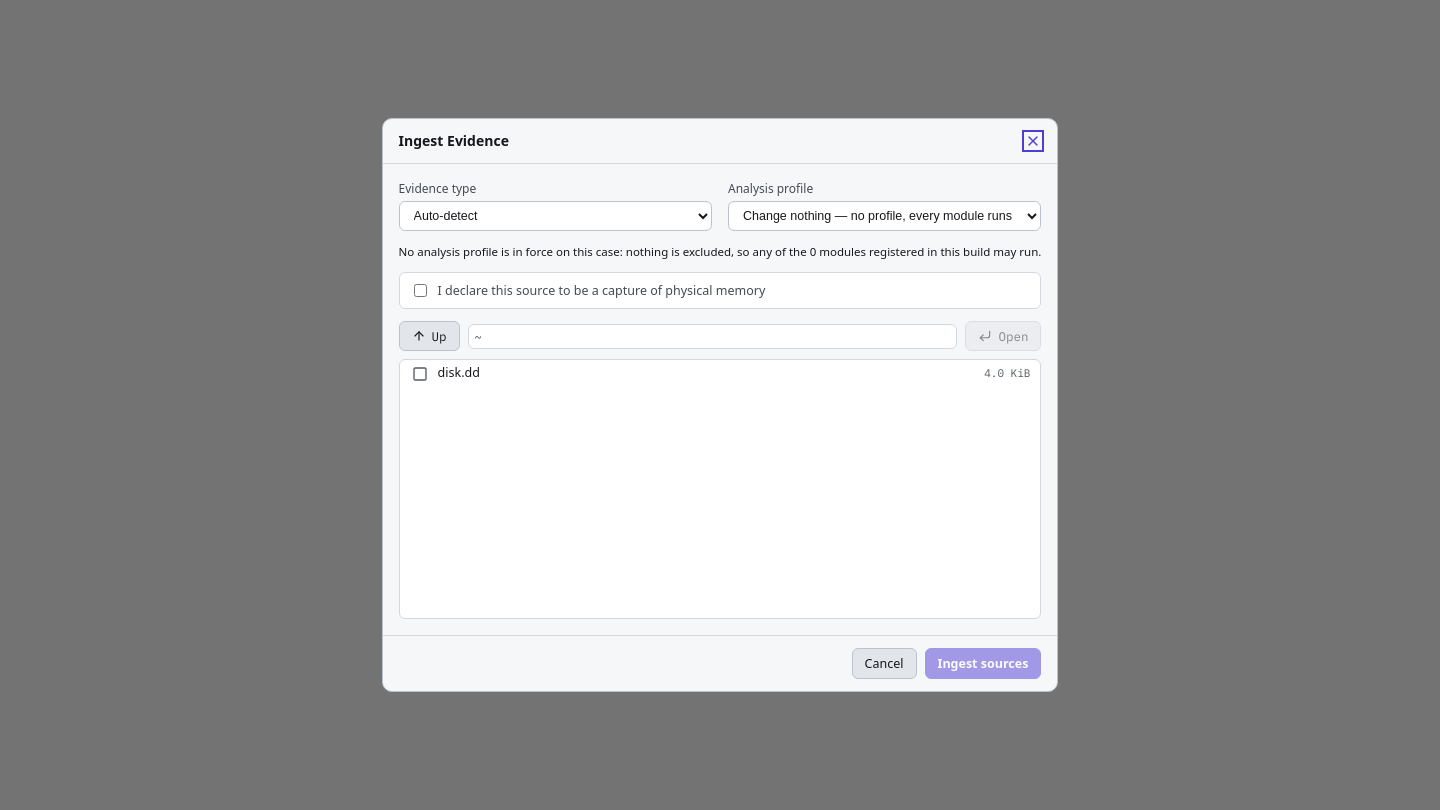
pasting a known evidence path › opens a pasted path from a control, not only from the Enter key
Replace the text in the field named "path" with "/evidence/2026/OP-KESTREL": (712, 336) top-left (468, 324), bottom-right (957, 349)
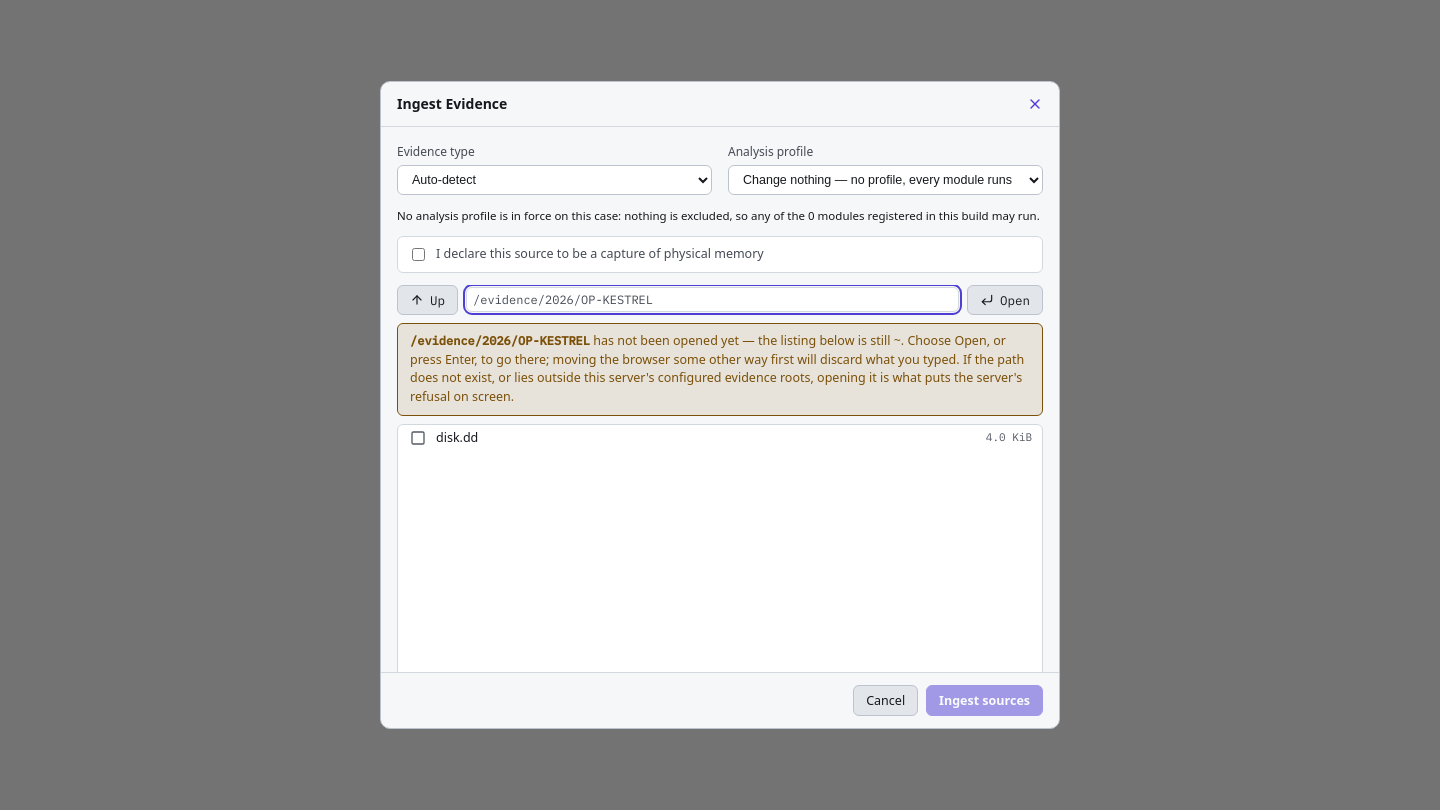
Click the button with aria-label "open this path": (1005, 300) top-left (967, 285), bottom-right (1043, 315)
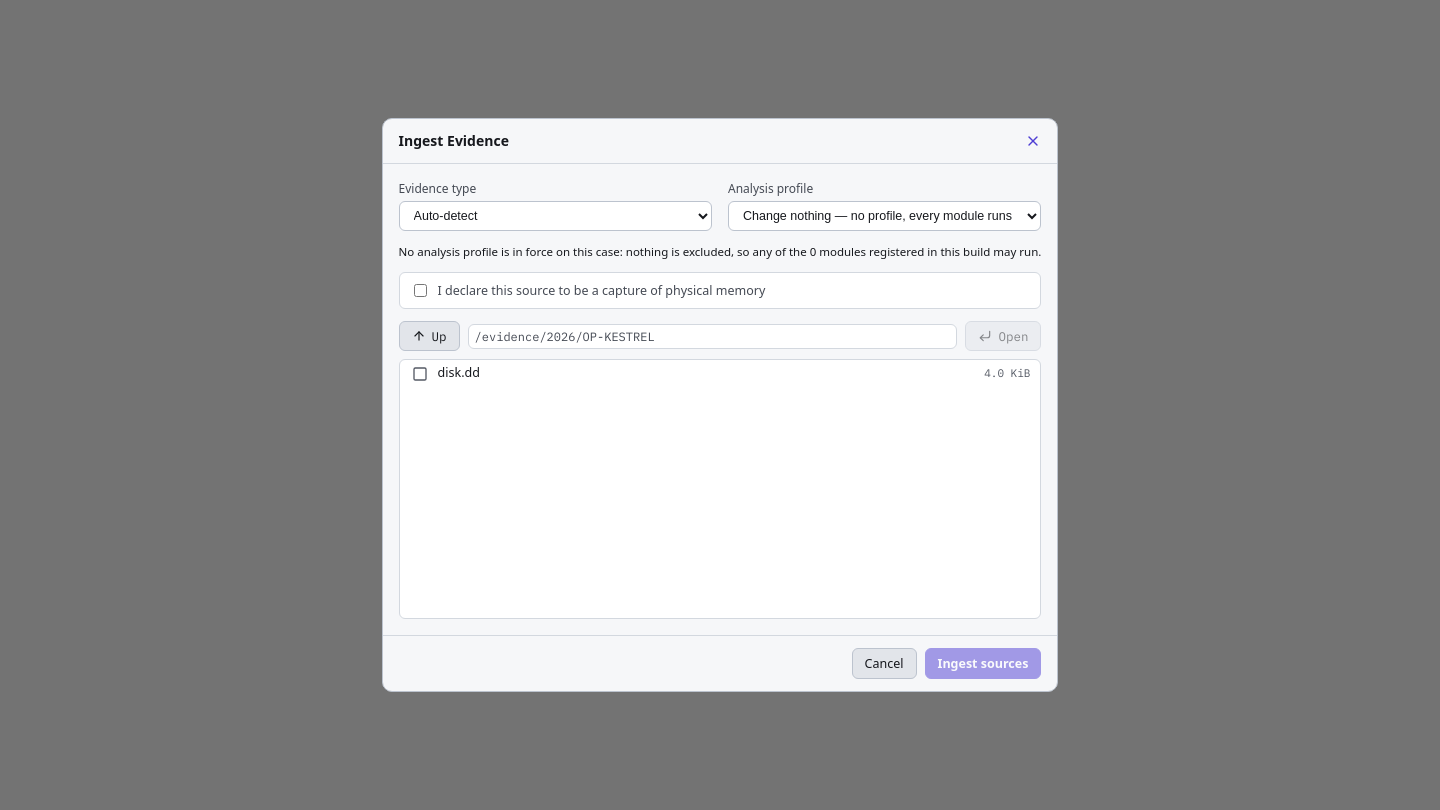
expect the text "has not been opened" is gone: met
